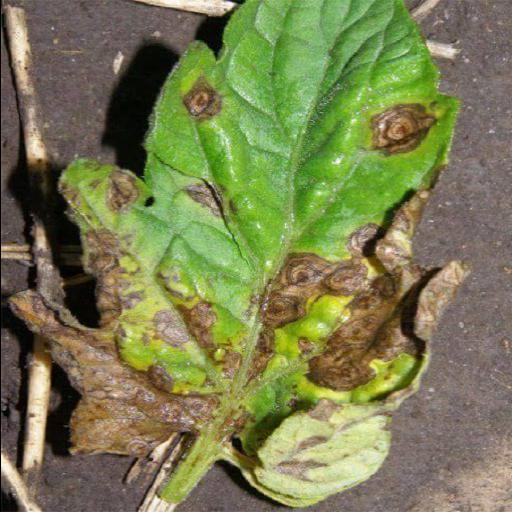Early Blight: (18, 2, 469, 506)
